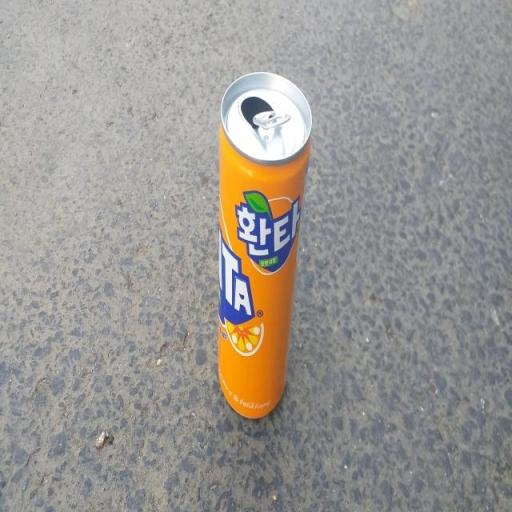metal: (156, 62, 380, 478)
